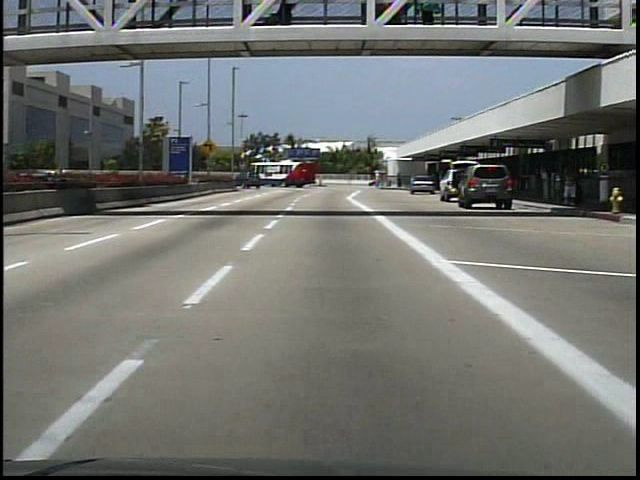person: (556, 162, 580, 210)
